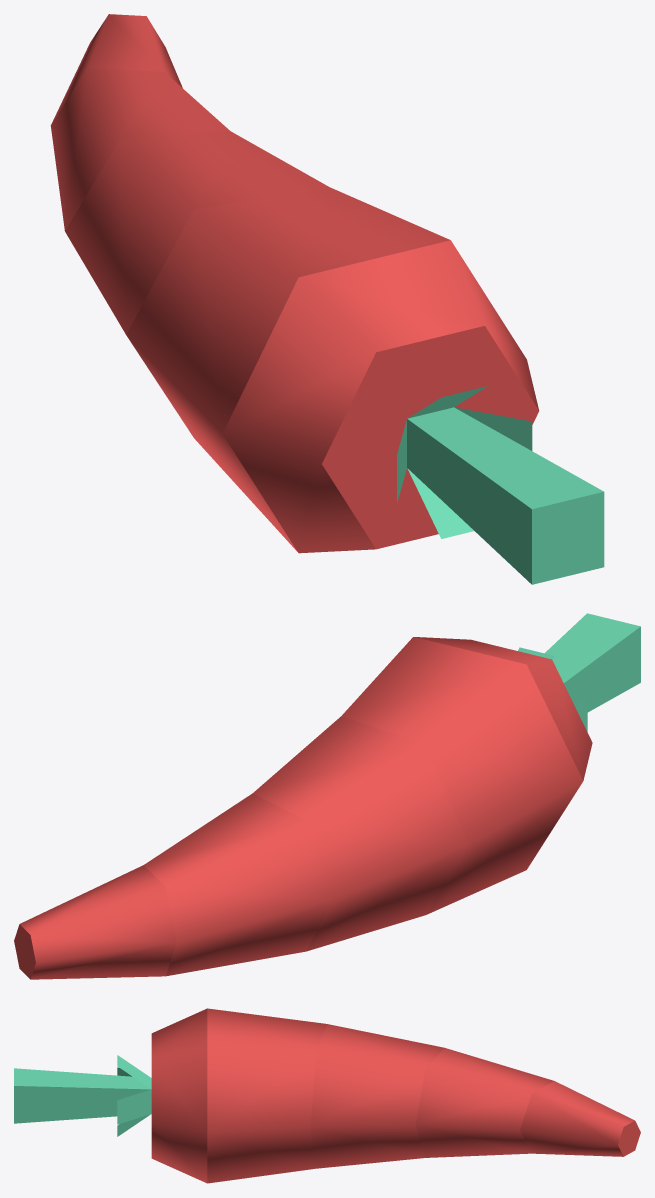
File: pepper.obj
3 views of the same model, one above another, from view 1: azimuth 30°, elevation 25°; view 2: azimuth 150°, elevation 25°; view 3: azimuth 270°, elevation 25° (orthographic). The views are drawn at different scales.
Parts seen in each view (by area): view 1: pepper; view 2: pepper; view 3: pepper.
Boxes of the visible parts, x1=… form: pepper: x1=50, y1=14, x2=604, y2=584; pepper: x1=14, y1=613, x2=640, y2=979; pepper: x1=14, y1=1008, x2=640, y2=1183.
Size of the model in its own units: 0.1039 by 0.0775 by 0.3191.
